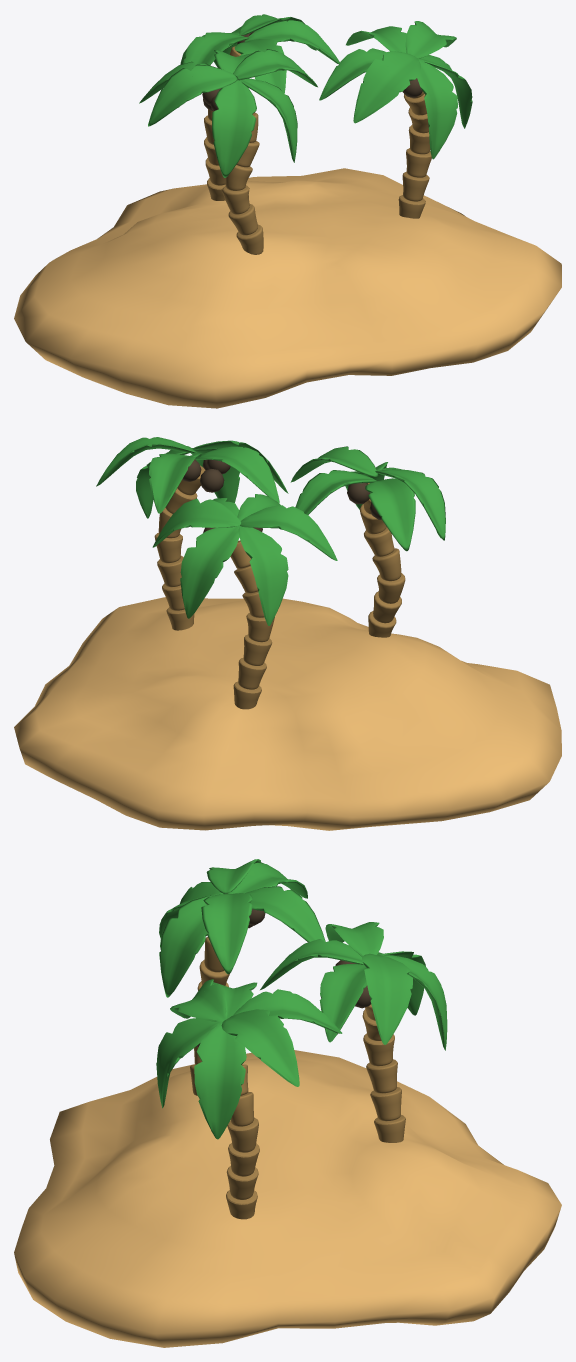
File: island_with_palms_1.fbx
3 renders of one model, top to bottom at view 1: azimuth 30°, elevation 25°; view 2: azimuth 150°, elevation 25°; view 3: azimuth 270°, elevation 25°, orthographic. The views are drawn at different scales.
Parts seen in each view (by area): view 1: Circle.001, palm1.003, palm2.001, palm1.002; view 2: Circle.001, palm1.002, palm2.001, palm1.003; view 3: Circle.001, palm1.003, palm1.002, palm2.001.
Boxes of the visible parts, left/top/right/bottom form: Circle.001: left=14, top=168, right=561, bottom=408; palm1.003: left=319, top=21, right=472, bottom=218; palm2.001: left=139, top=49, right=317, bottom=254; palm1.002: left=178, top=14, right=339, bottom=200; Circle.001: left=14, top=597, right=561, bottom=830; palm1.002: left=152, top=494, right=337, bottom=709; palm2.001: left=290, top=446, right=445, bottom=637; palm1.003: left=96, top=437, right=288, bottom=630; Circle.001: left=14, top=1050, right=561, bottom=1347; palm1.003: left=156, top=979, right=342, bottom=1219; palm1.002: left=260, top=922, right=447, bottom=1142; palm2.001: left=159, top=859, right=325, bottom=1095.
Size of the model in its own units: 465 by 264 by 393.
